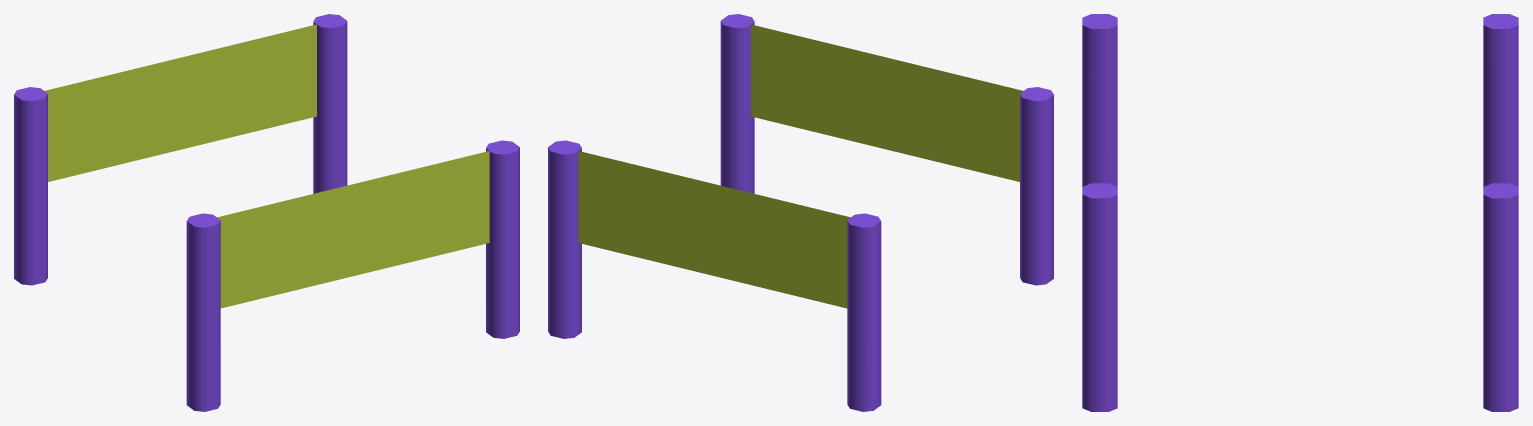
Rendered from banner_double.dae.
The picture shows the model from 3 angles, left to right: view 1: azimuth 30°, elevation 25°; view 2: azimuth 150°, elevation 25°; view 3: azimuth 270°, elevation 25°; orthographic projection. The views are drawn at different scales.
Visible parts, largest first — view 1: banner_double; view 2: banner_double; view 3: banner_double.
Part boxes in pixels (box(x1,y1,x2,y2)): banner_double: box(14, 14, 519, 411); banner_double: box(548, 14, 1053, 411); banner_double: box(1082, 14, 1518, 411).
Size of the model in its own units: 0.925 by 0.925 by 0.5.
